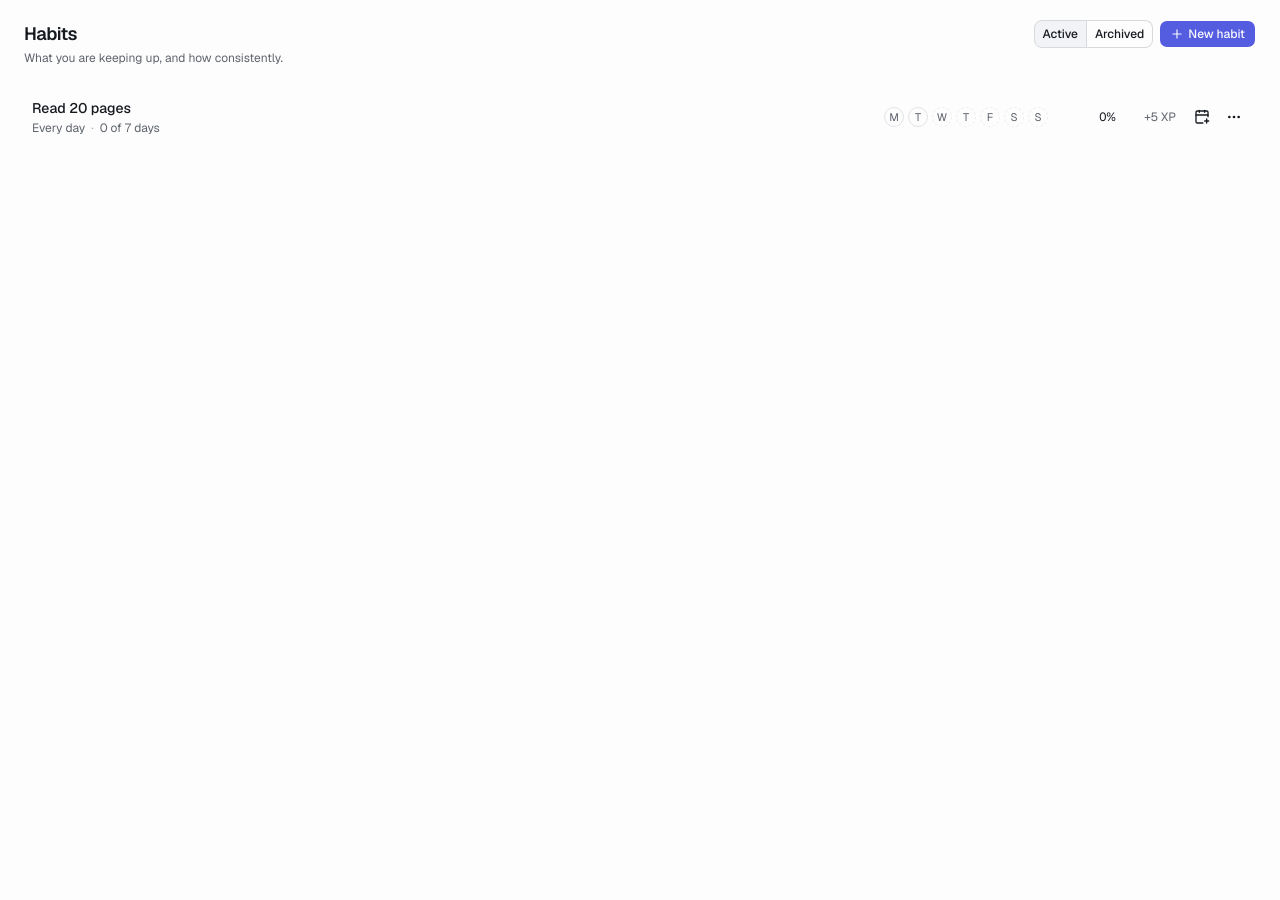
it: deleting a habit › moves focus to New habit when the deleted row was the last one
Press Enter in the button named "Options for Read 20 pages", box [1220,103,1248,131]
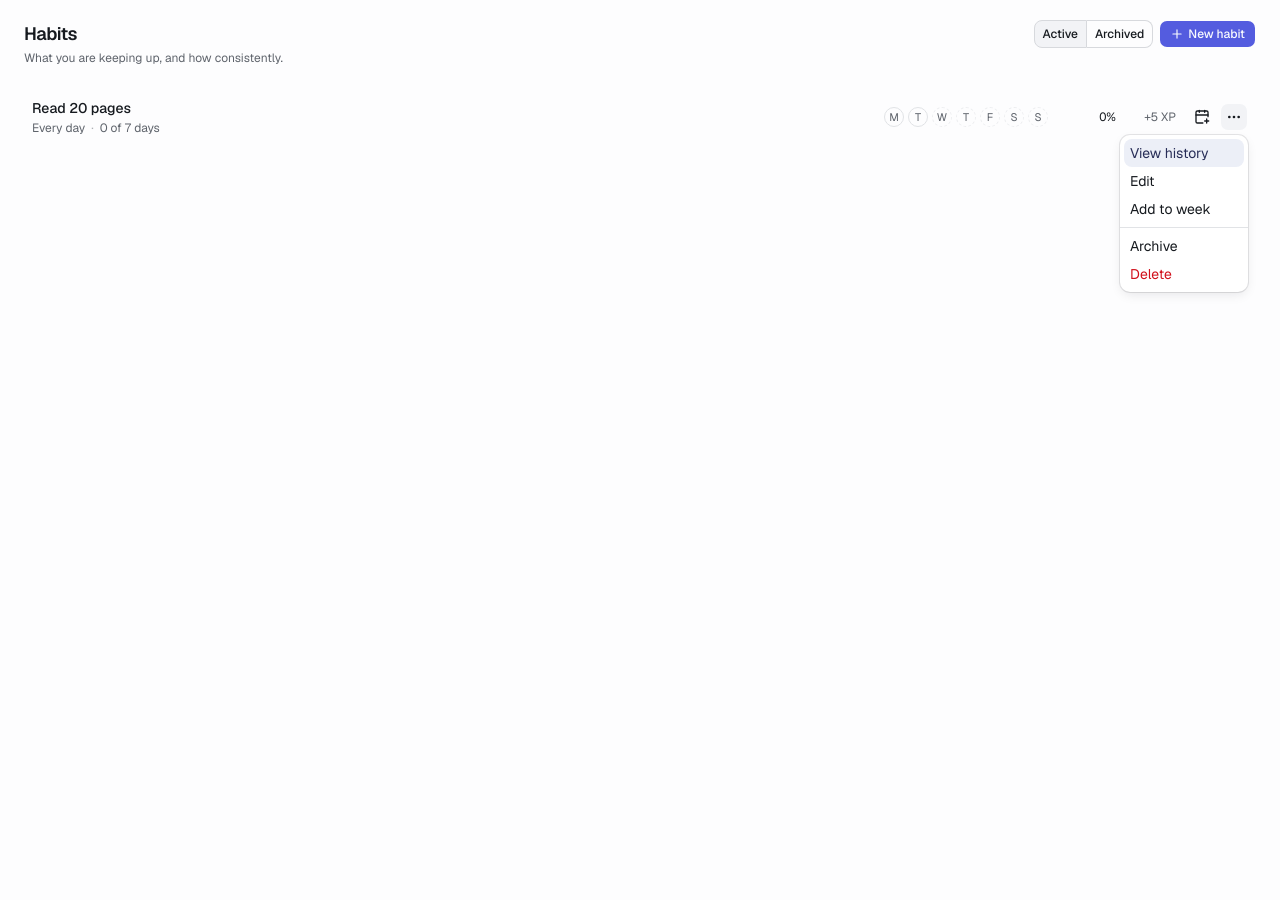
Click the menu item "Delete": (1151, 274) [1130,265,1172,283]
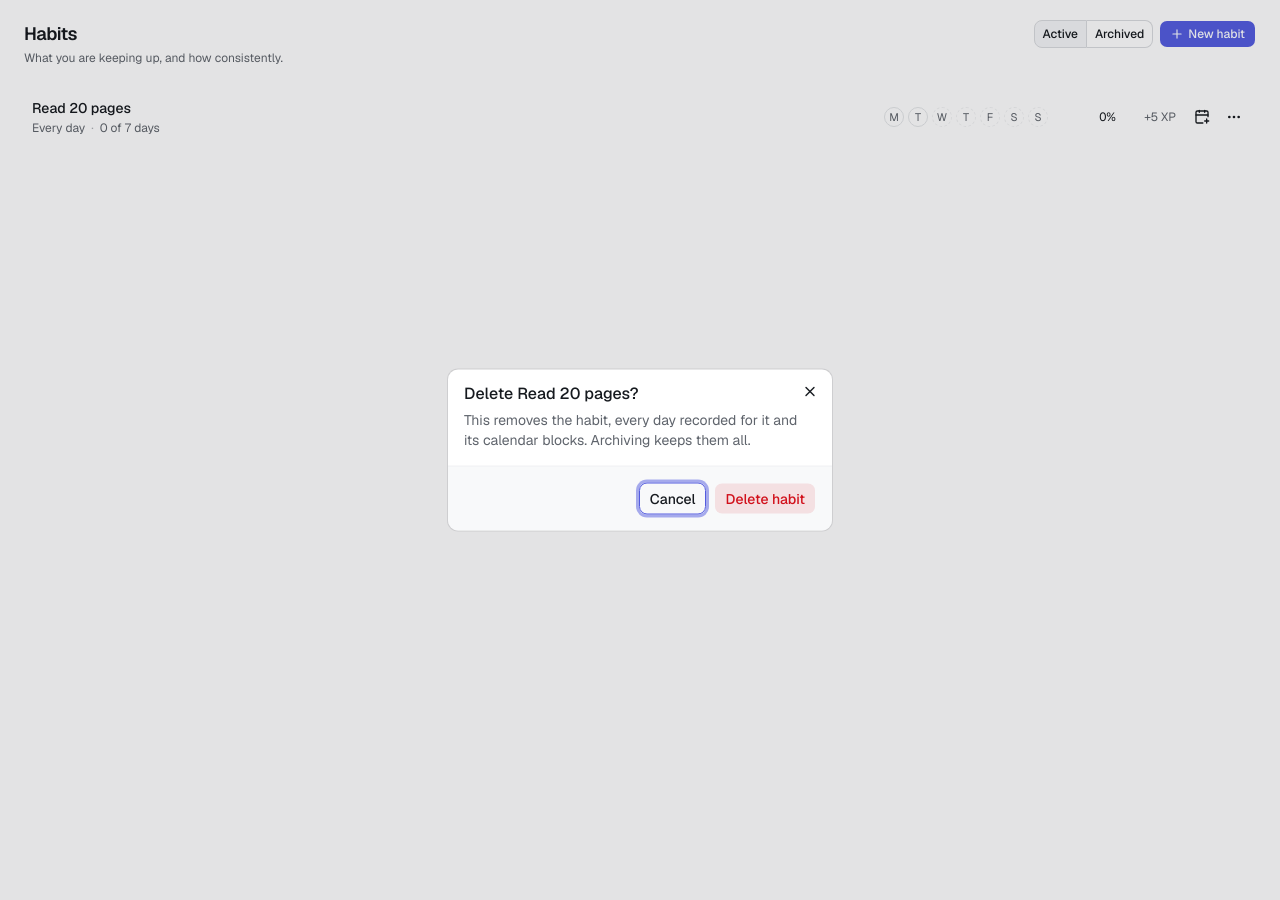
Click the button "Delete habit": (765, 498) [714,482,816,514]
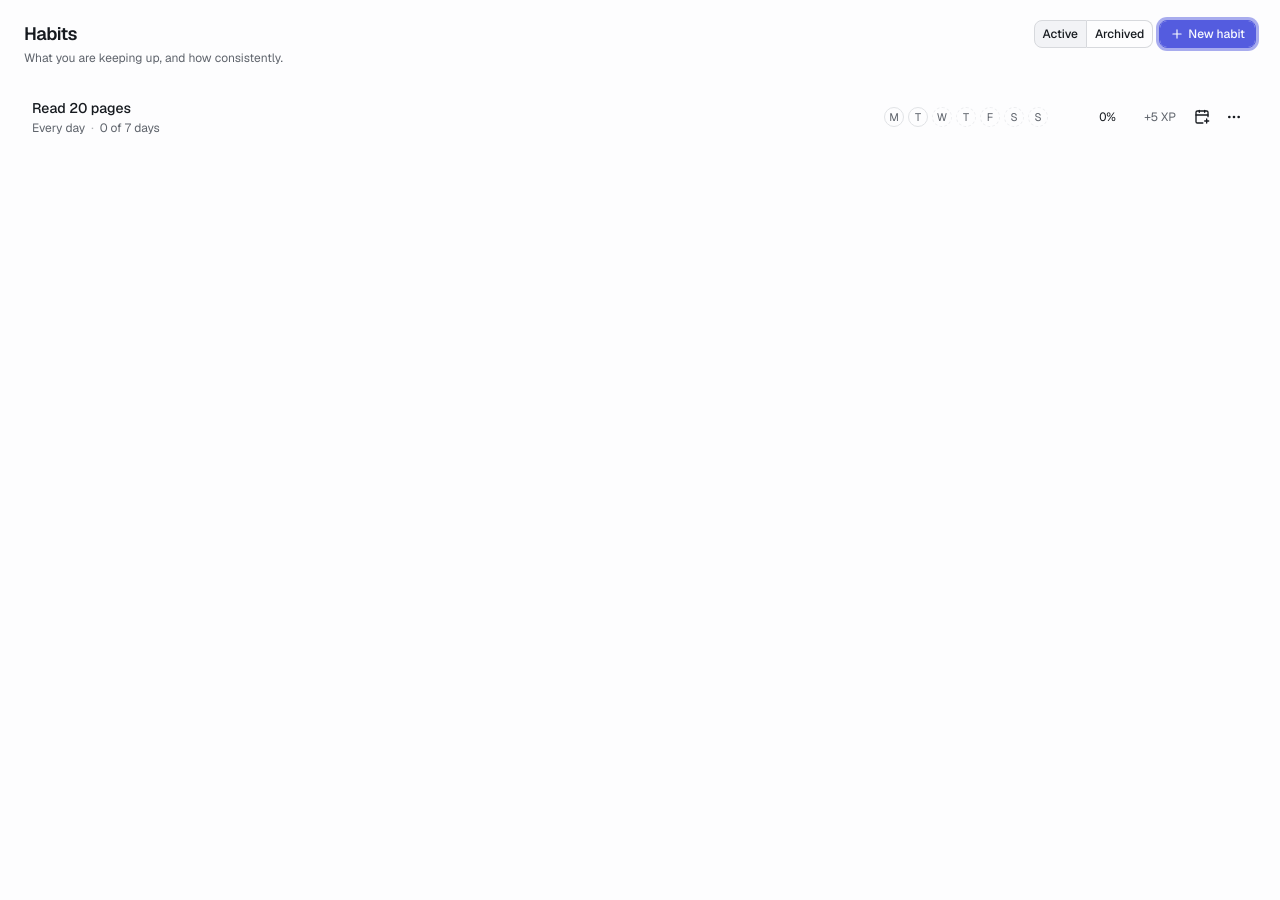
Check: the dialog is gone
